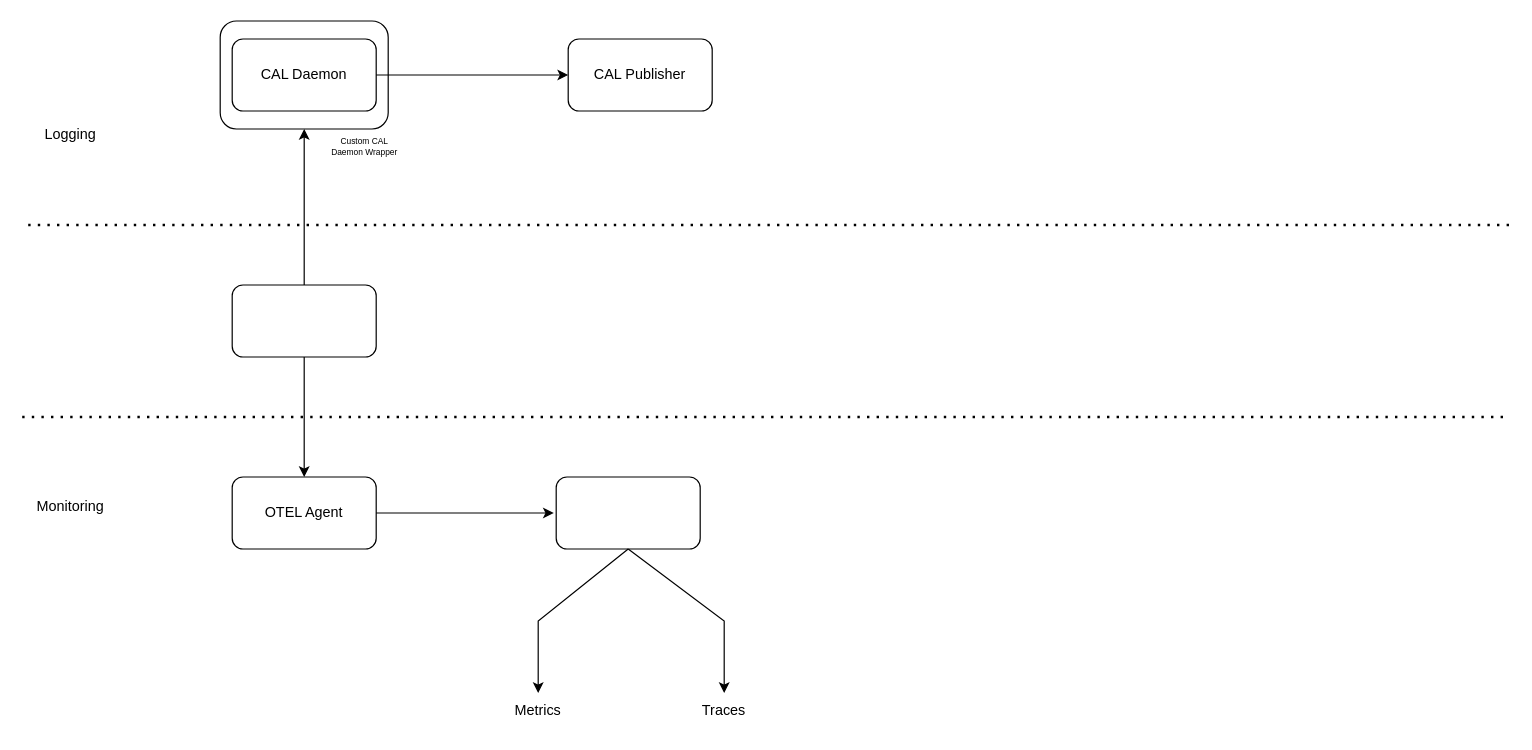
Some shapes in this 1532 by 750 pixel diagram are drawn without their labels. Here are the shapes that lost their labels. From the top down, the box of each, then its label:
(231, 284, 376, 357): Open Stack Node App
(555, 476, 700, 549): Data Dog
